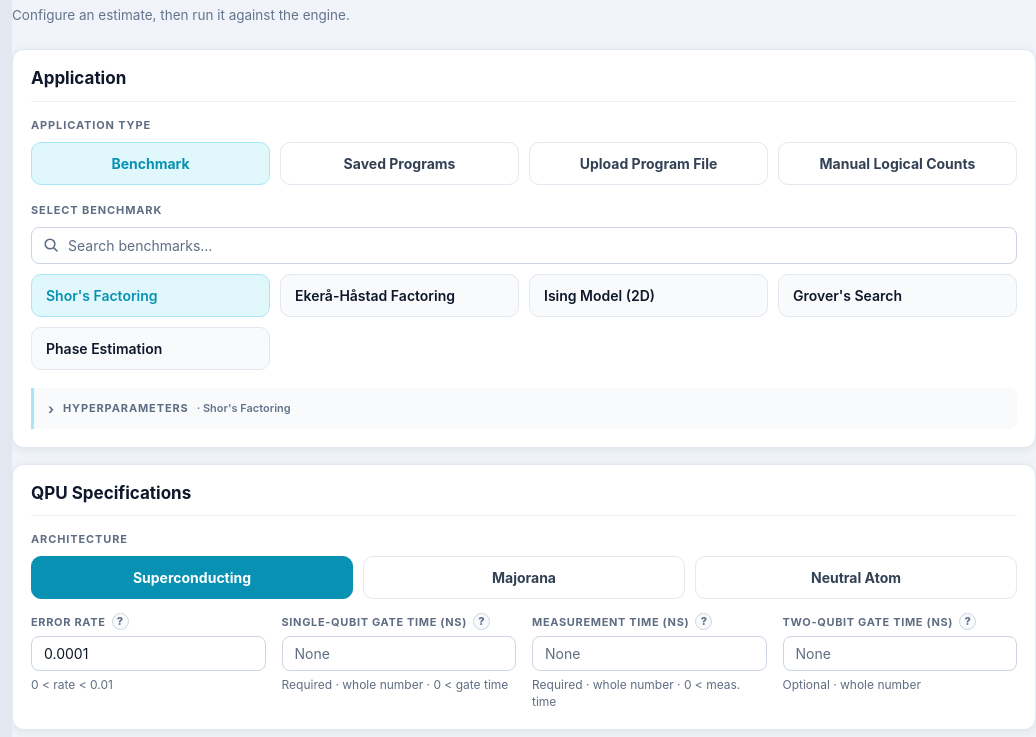
Test: Magic State Factory availability and multi-select › auto-disables with a visible reason when switching to Majorana
What coordinates should you click on to do the following:
click the radio button labelled "Majorana"
I would click on:
 (524, 578)
Its box is [363, 556, 685, 599].
(page scrolled)
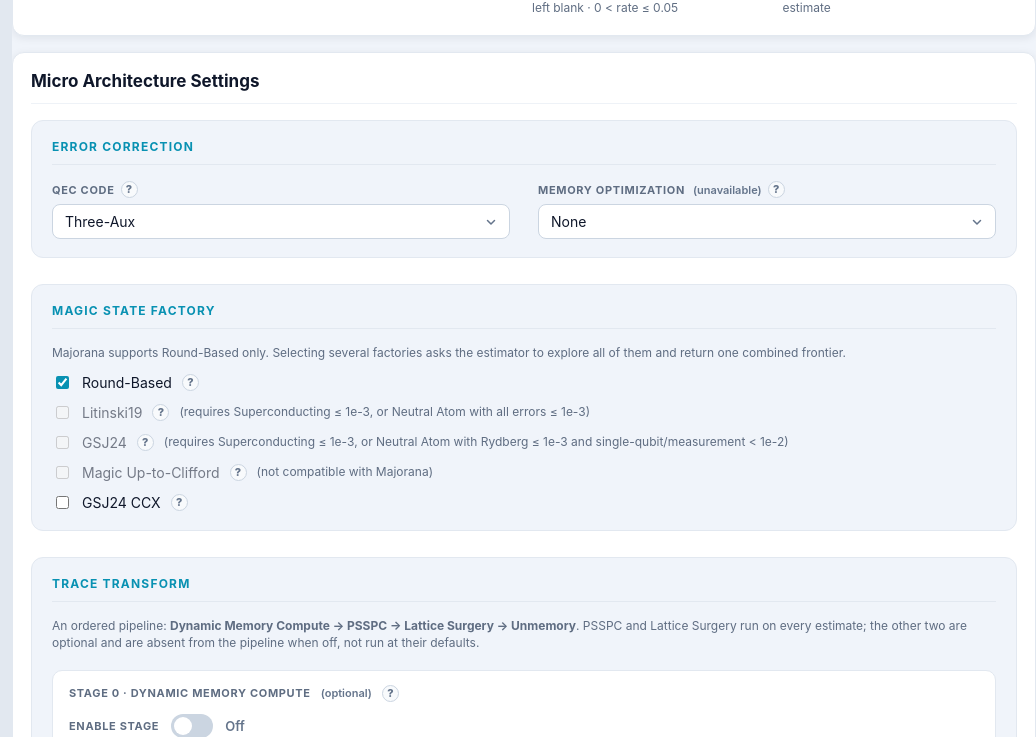
Now the checkbox labelled "Litinski19" is disabled, box [56, 406, 69, 419]
Now the checkbox labelled "GSJ24" is disabled, box [56, 436, 69, 449]
Now the text "Majorana supports Round-Based only" is shown, box [52, 345, 846, 360]
